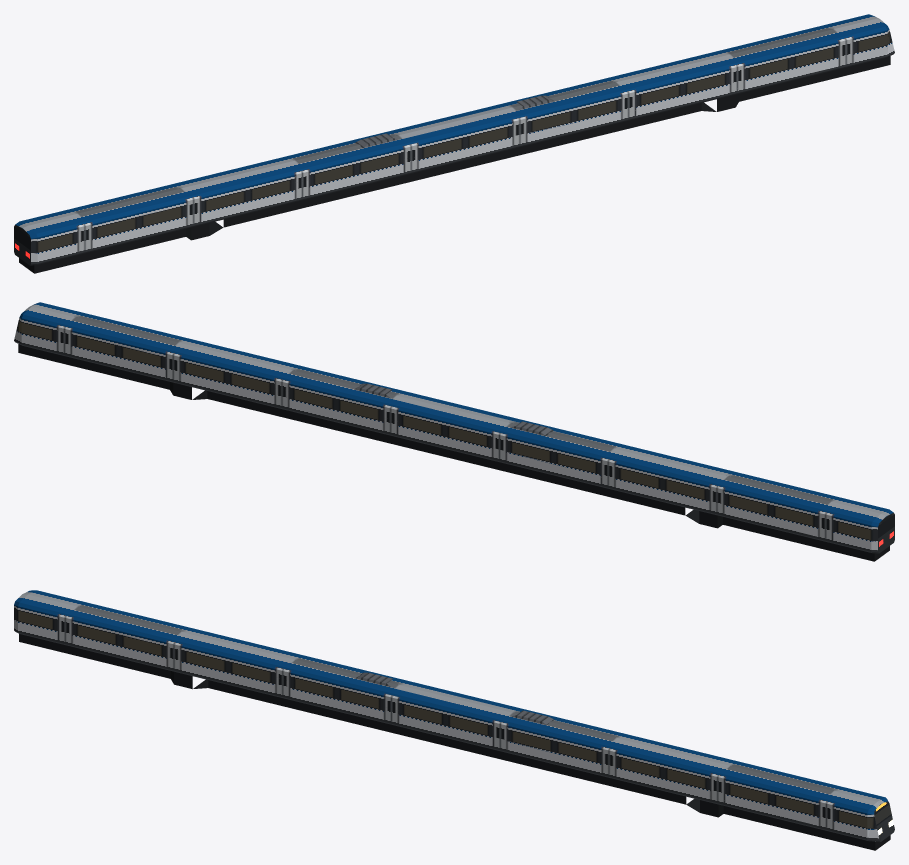
The model's file is scotrail_class_385__cab.glb.
3 renders of one model, top to bottom at view 1: azimuth 30°, elevation 25°; view 2: azimuth 150°, elevation 25°; view 3: azimuth 330°, elevation 25°, orthographic.
Parts seen in each view (by area): view 1: scotrail_class_385__cab; view 2: scotrail_class_385__cab; view 3: scotrail_class_385__cab.
Boxes of the visible parts, <box> form: scotrail_class_385__cab: <box>14,14,894,273</box>; scotrail_class_385__cab: <box>14,302,894,561</box>; scotrail_class_385__cab: <box>14,590,894,850</box>.
Bounding box in the file's own units: 71 × 3.75 × 2.8.
1 material, 1 textured.
